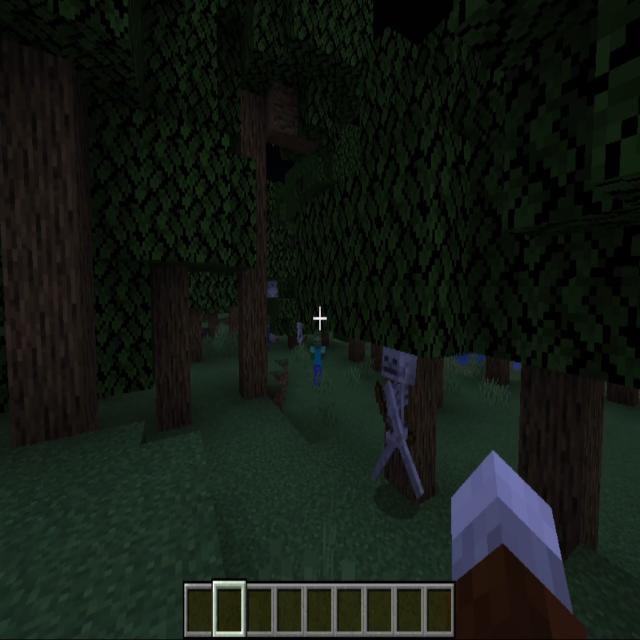Skeleton: (373, 341, 420, 504), (296, 318, 306, 354)
Zombie: (310, 330, 326, 388), (264, 313, 274, 354)
